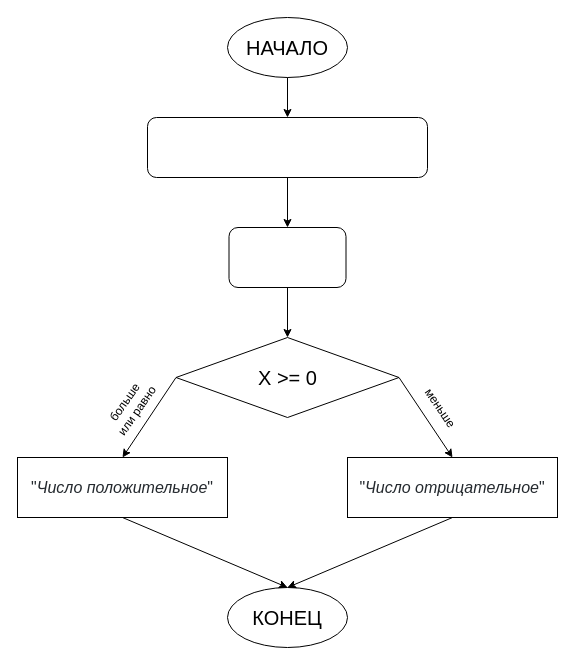
This 575x665 diagram has some shape labels left out. Here are the shapes that lost their labels. From the top down, the centre of each, then its label:
At pixel 287 147: "var x = prompt('Введите число')".
At pixel 287 257: "Ввод X".
